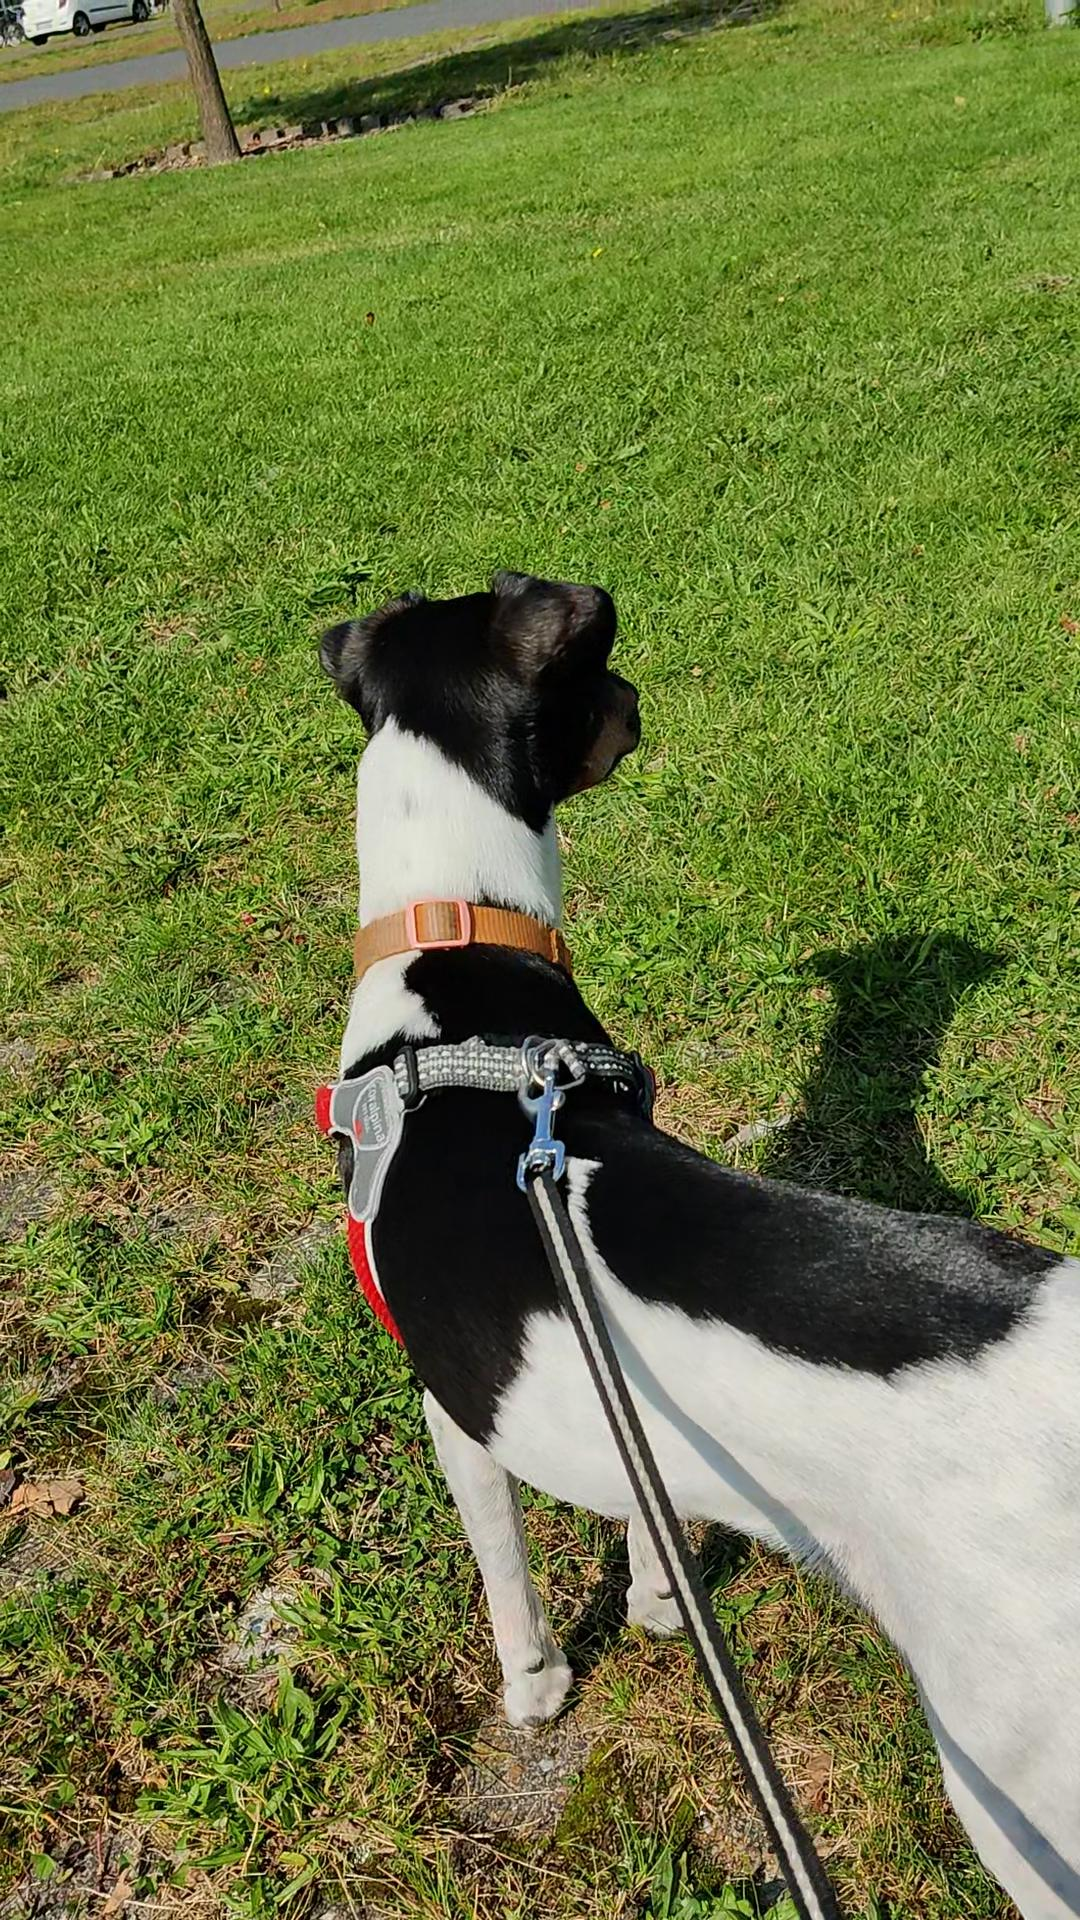Dog: (311, 568, 1079, 1919)
